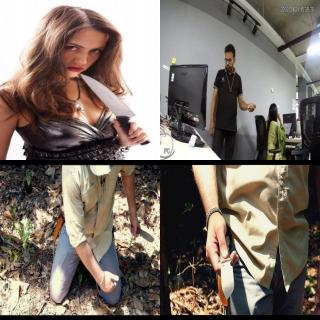knife: (81, 74, 147, 138), (205, 232, 239, 300), (128, 221, 156, 245), (241, 103, 253, 114)
